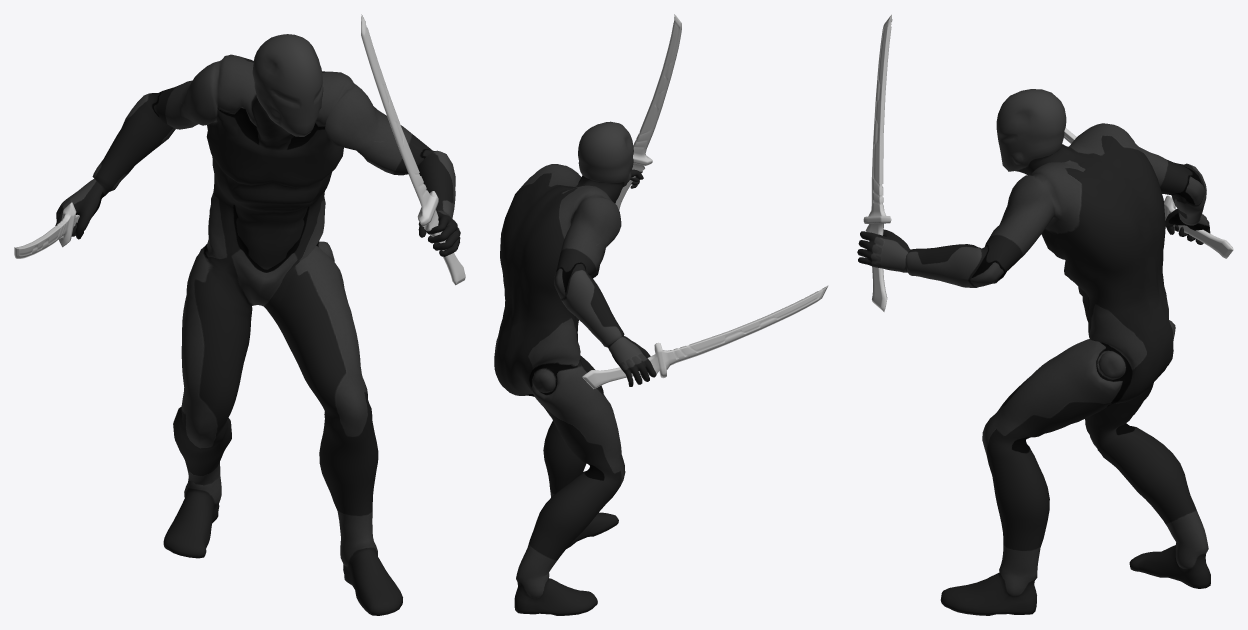
3 views of the same model, side by side, from view 1: azimuth 30°, elevation 25°; view 2: azimuth 150°, elevation 25°; view 3: azimuth 270°, elevation 25° (orthographic). The views are drawn at different scales.
Visible parts, largest first — view 1: Cyborg_Ninja_Killer, Sword_l, Sword_l001; view 2: Cyborg_Ninja_Killer, Sword_l001, Sword_l; view 3: Cyborg_Ninja_Killer, Sword_l, Sword_l001.
Part boxes in pixels (<box>): Cyborg_Ninja_Killer: <box>55,34,460,615</box>; Sword_l: <box>361,14,465,285</box>; Sword_l001: <box>14,202,79,258</box>; Cyborg_Ninja_Killer: <box>494,121,656,615</box>; Sword_l001: <box>582,285,828,388</box>; Sword_l: <box>615,14,681,210</box>; Cyborg_Ninja_Killer: <box>857,89,1210,615</box>; Sword_l: <box>863,14,892,311</box>; Sword_l001: <box>1064,128,1233,258</box>.
Size of the model in its own units: 126 by 186 by 112.
